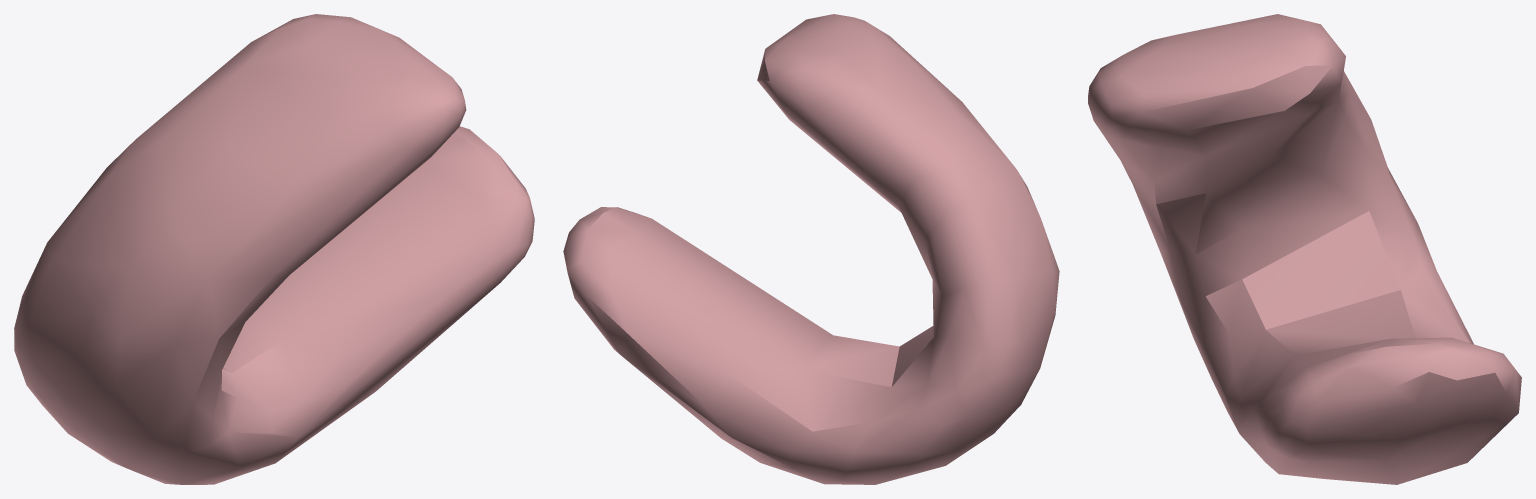
Rendered from fma49067_fj1380.glb.
The picture shows the model from 3 angles, left to right: view 1: azimuth 30°, elevation 25°; view 2: azimuth 150°, elevation 25°; view 3: azimuth 270°, elevation 25°; orthographic projection. The views are drawn at different scales.
Parts seen in each view (by area): view 1: FMA49067_FJ1380; view 2: FMA49067_FJ1380; view 3: FMA49067_FJ1380.
Part boxes in pixels (box(x1,y1,x2,y2)): FMA49067_FJ1380: box(14, 14, 534, 484); FMA49067_FJ1380: box(563, 14, 1059, 484); FMA49067_FJ1380: box(1088, 14, 1521, 484).
Bounding box in the file's own units: 0.00425 × 0.00362 × 0.00298.
